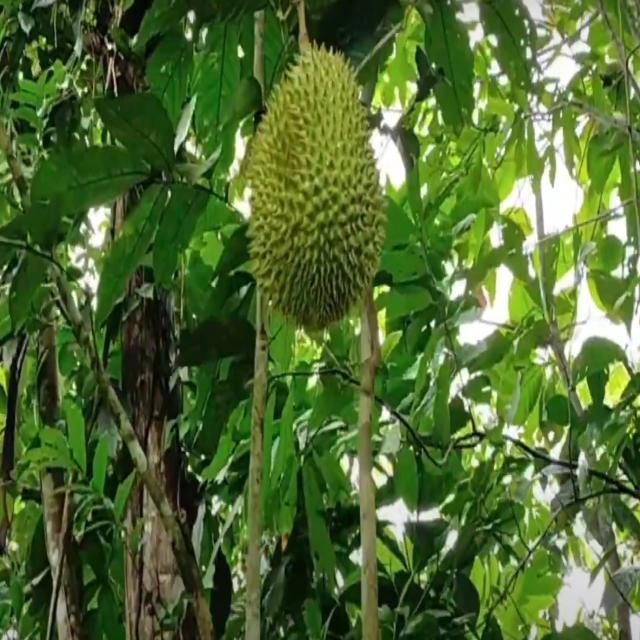immature: (243, 35, 384, 334)
